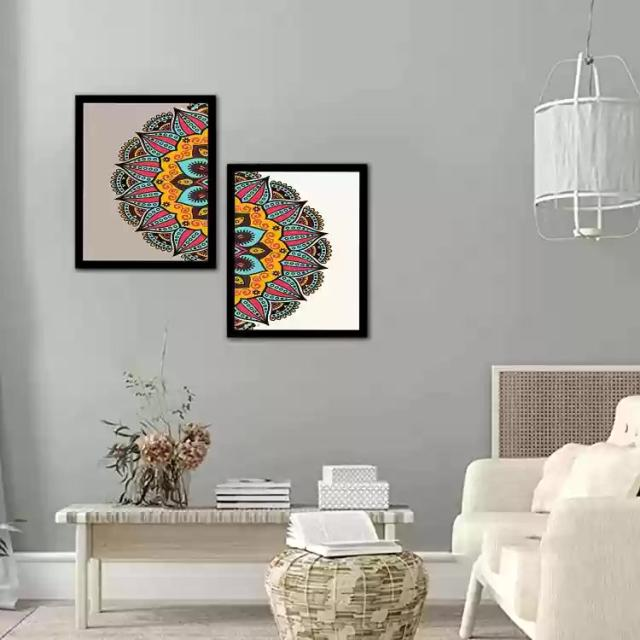painting: (75, 93, 218, 269), (227, 164, 370, 339)
